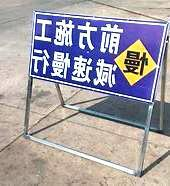sign: (30, 12, 161, 101)
